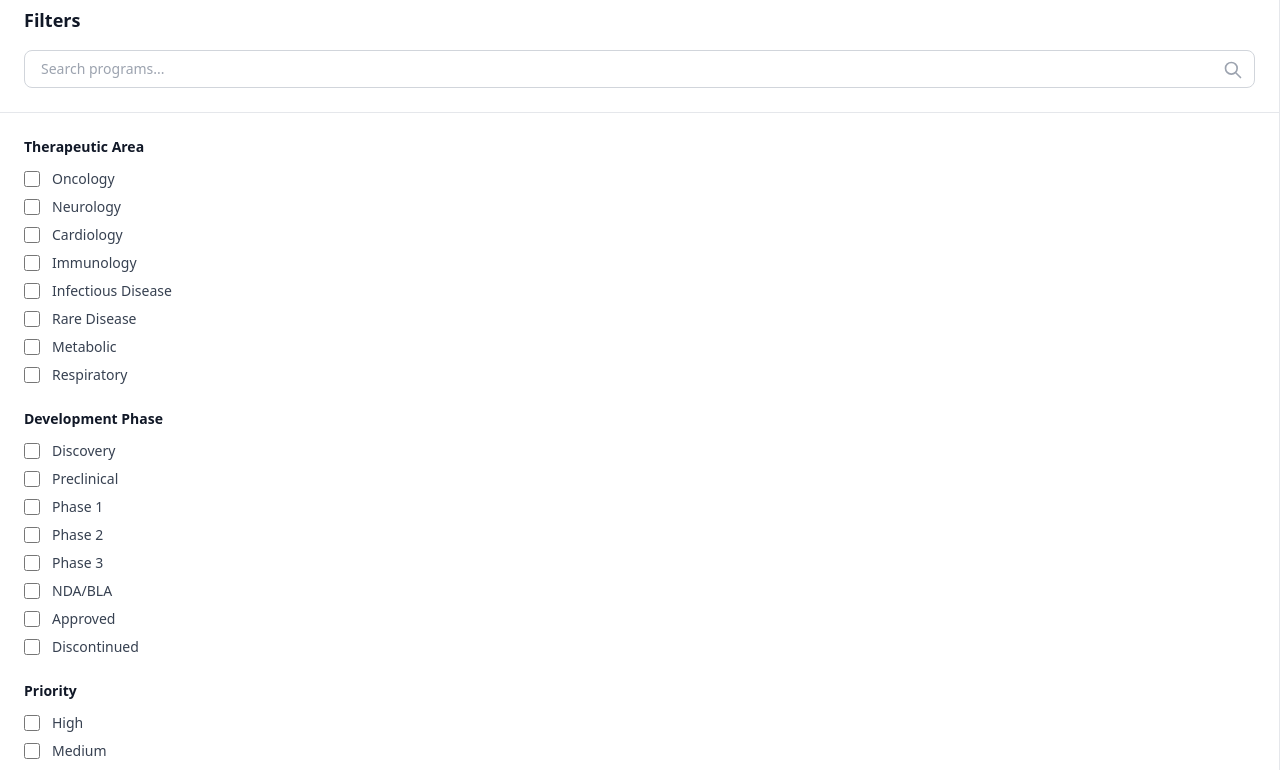
Scenario: FilterPanel all branches › toggles multiple priorities independently
The width and height of the screenshot is (1280, 770).
Step 1. Click the text "High" → click(68, 723), box [52,713,83,733]
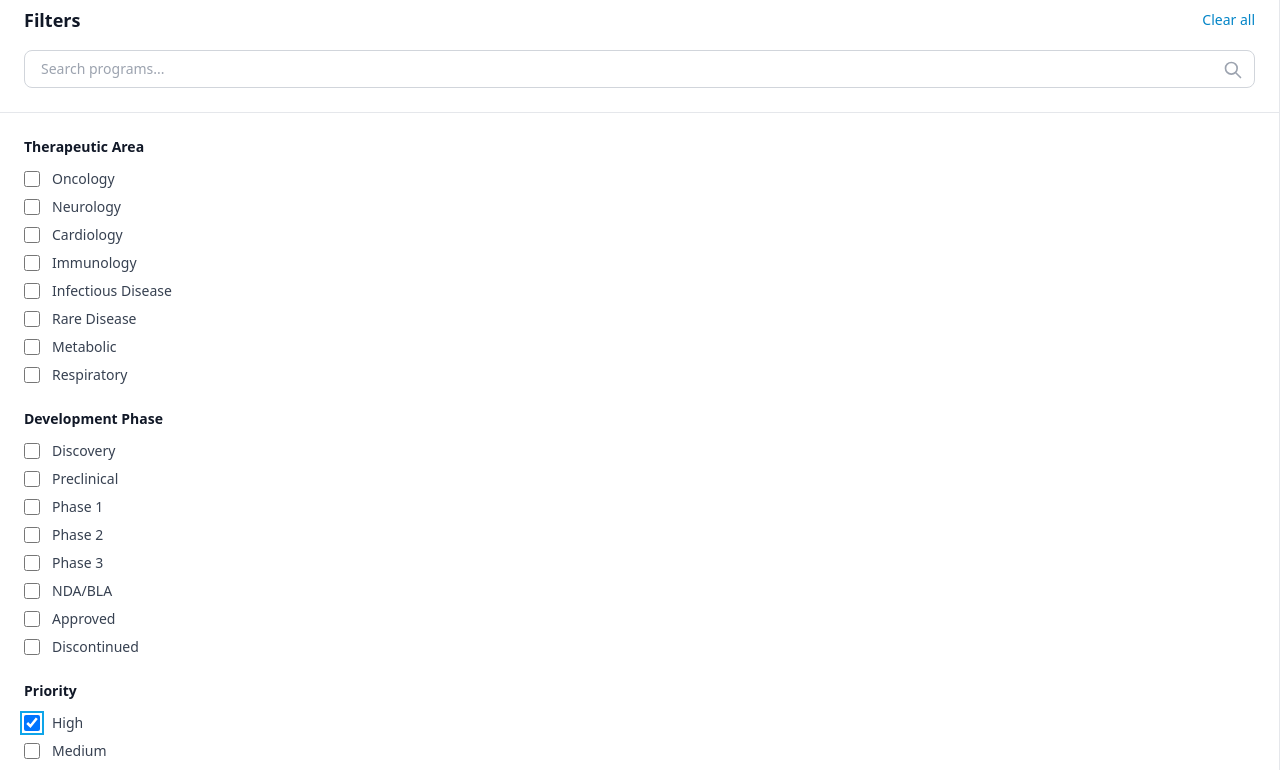
Step 2. Click the text "Medium" → click(79, 751), box [52,741,107,761]
(page scrolled)
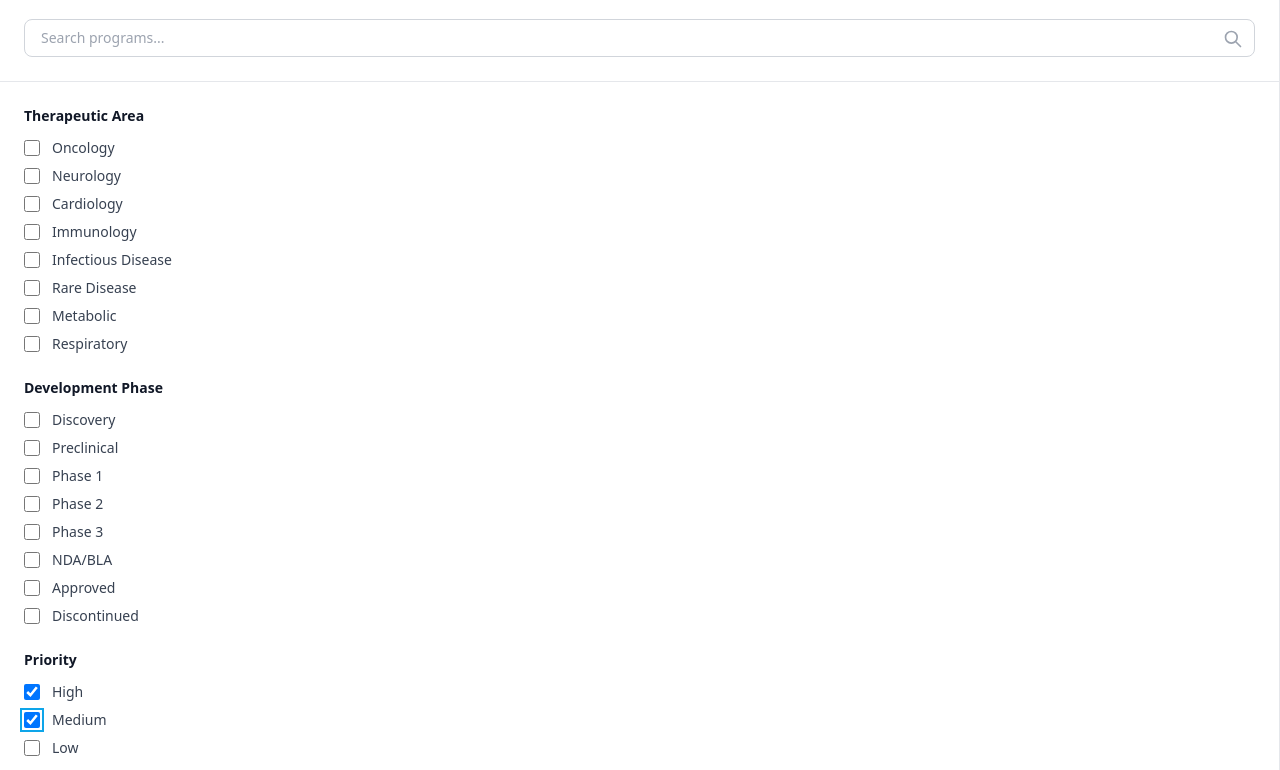
Step 3. Click the text "Low" → click(65, 748), box [52,738,78,758]
(page scrolled)
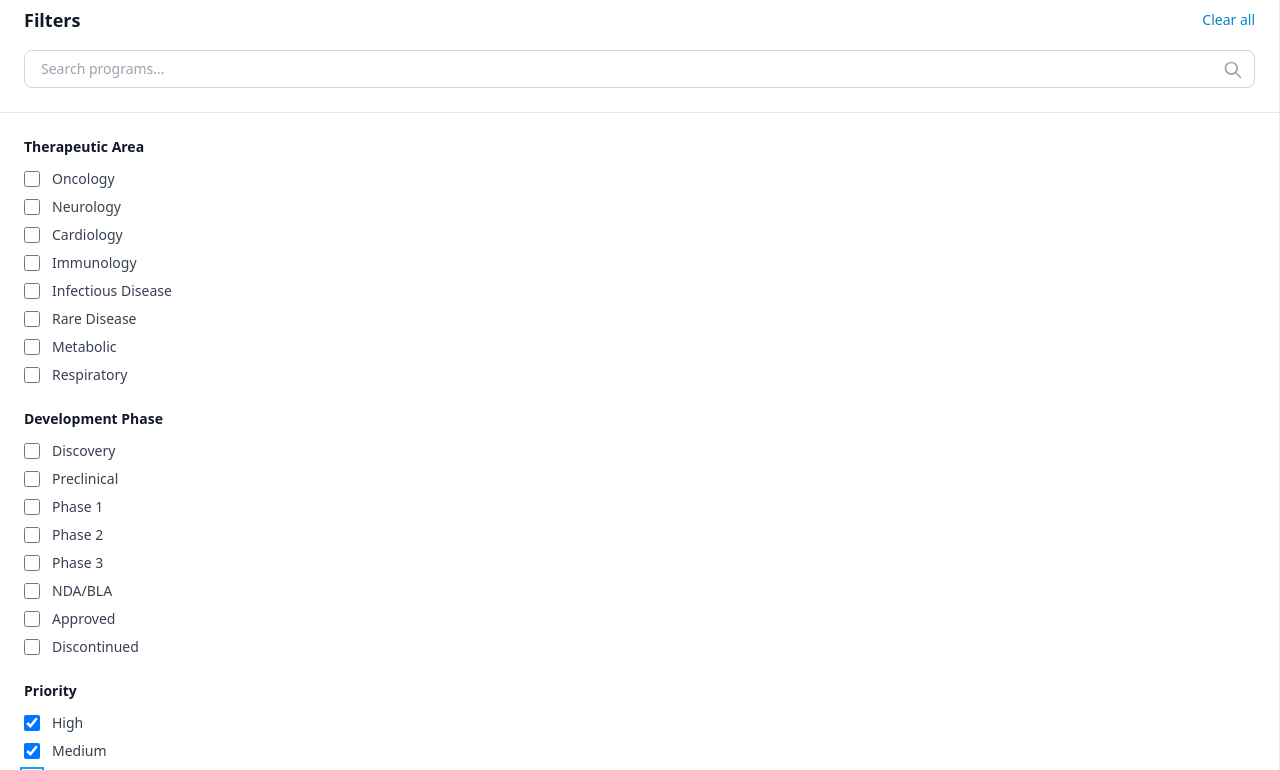
Check: the button "Clear all" is shown
Note: Clear all and verify all gone
Step 4. Click the button "Clear all" → click(1229, 20), box [1202,10,1255,30]
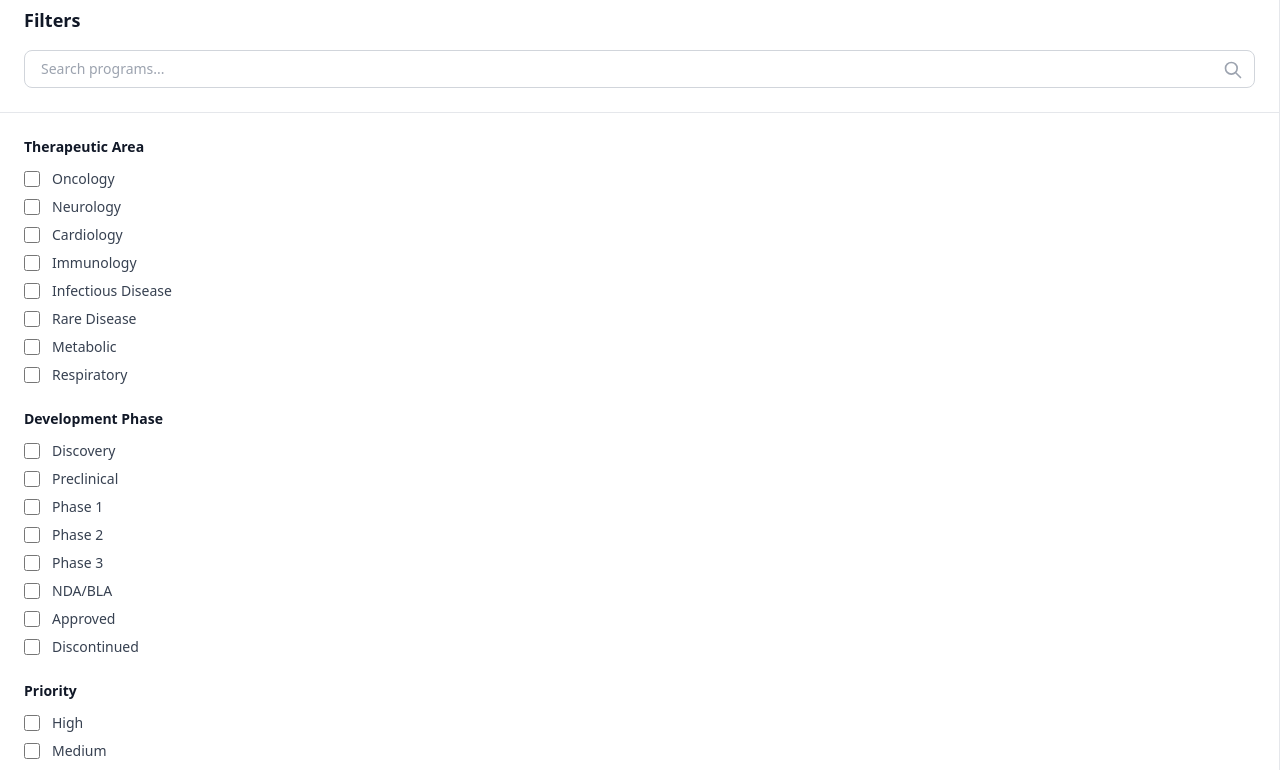
Check: the button "Clear all" is gone
